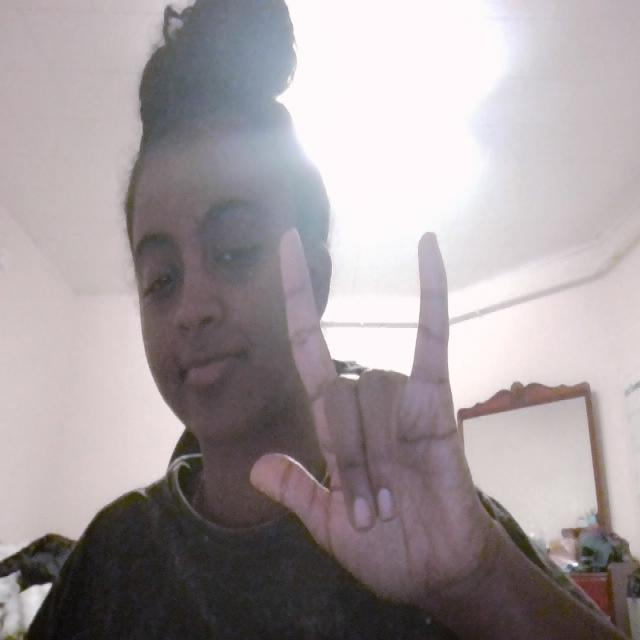iloveyou: (253, 224, 521, 603)
